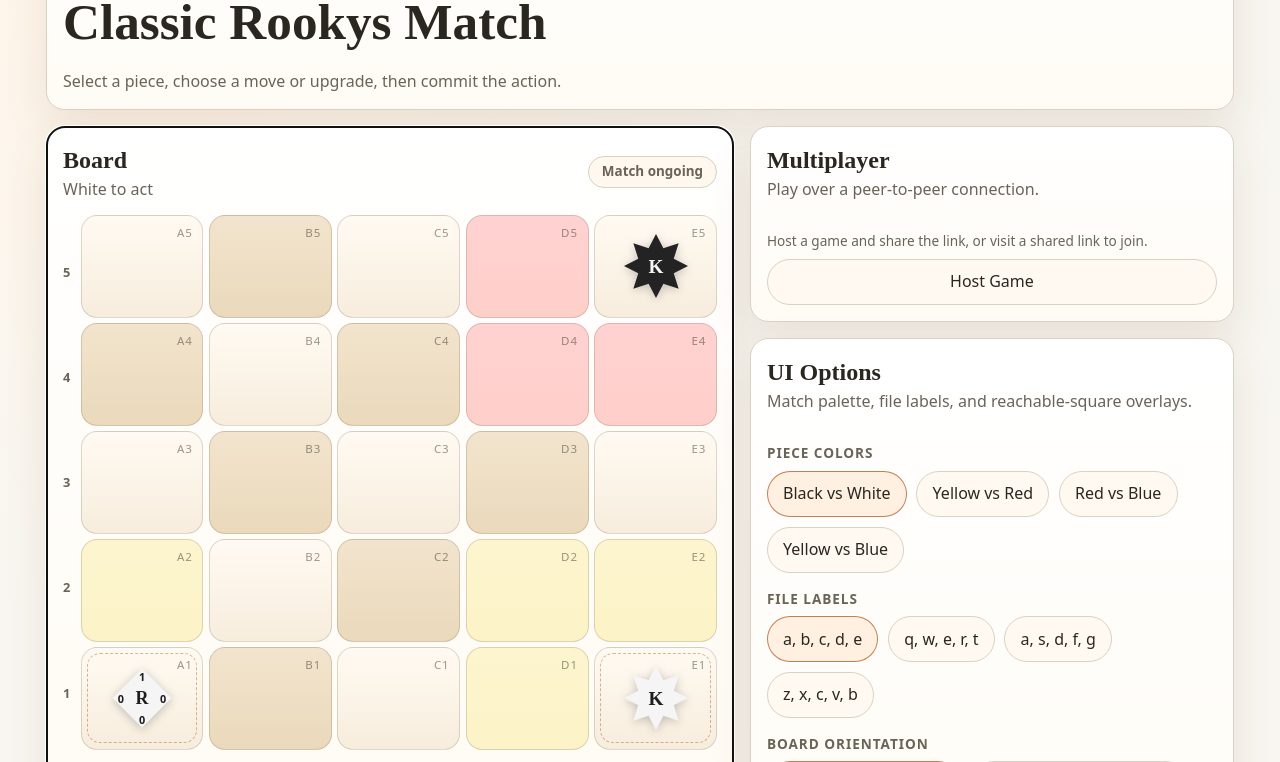
it: App › supports explicit move selection from the target list and restart reset
(page scrolled)
Click the cell named "Square a1, white rooky".
click(142, 698)  # box [81, 647, 204, 750]
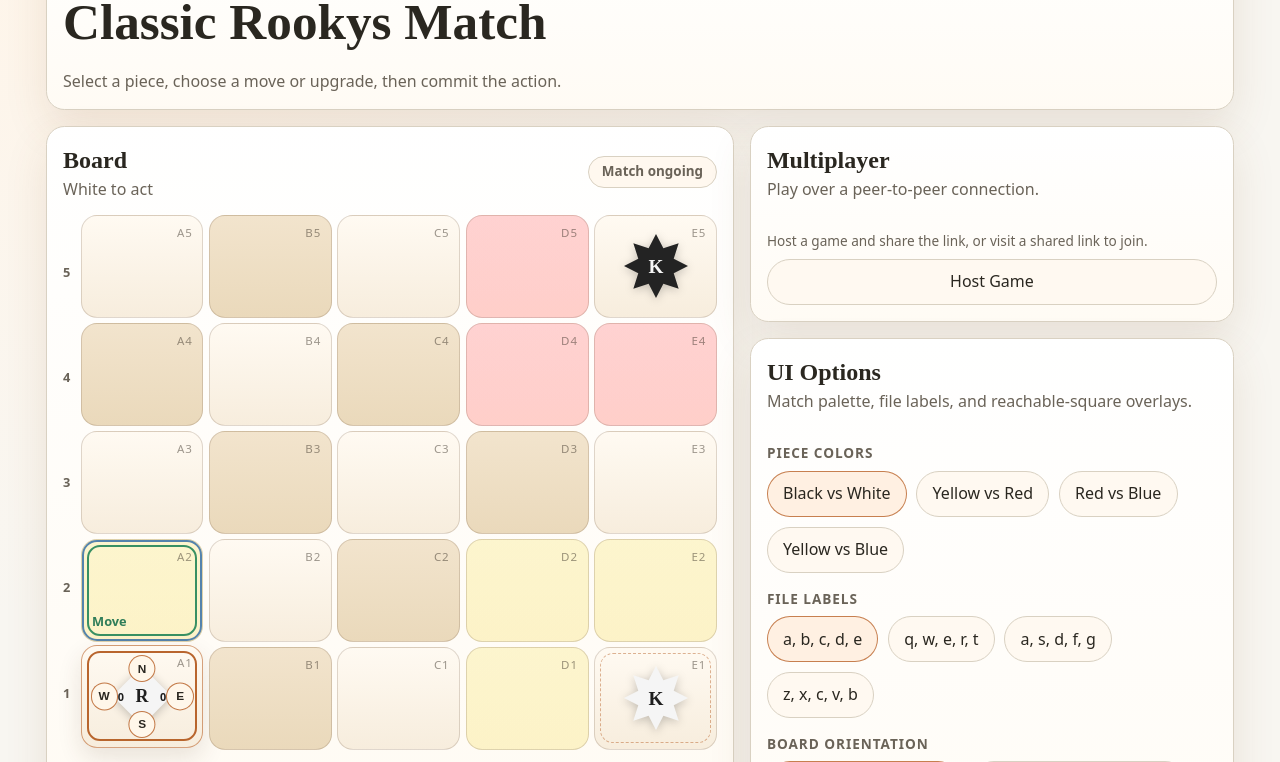
Click the cell named "Square a2, empty".
click(142, 590)  # box [81, 539, 204, 642]
(page scrolled)
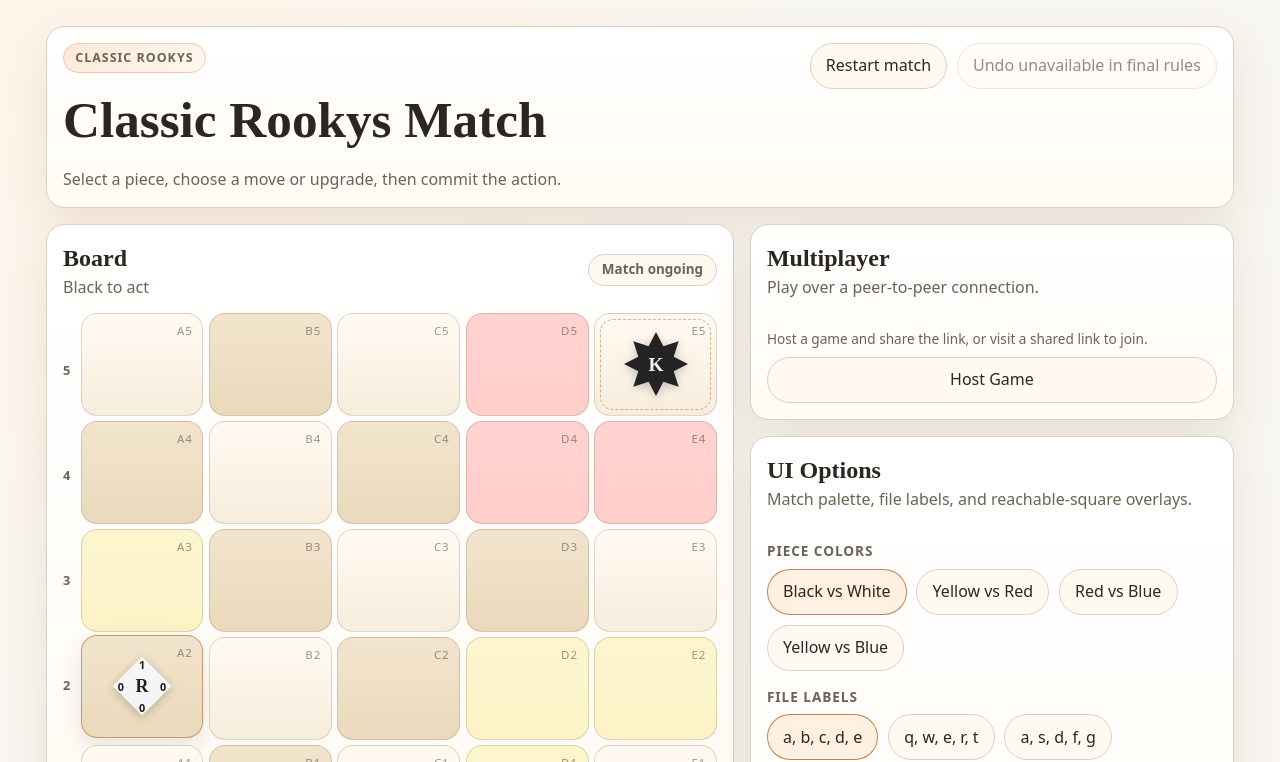
Check: the text "Black to act" is shown, box [63, 276, 149, 299]
Click the button "Restart match".
click(878, 66)  # box [810, 43, 947, 89]
(page scrolled)
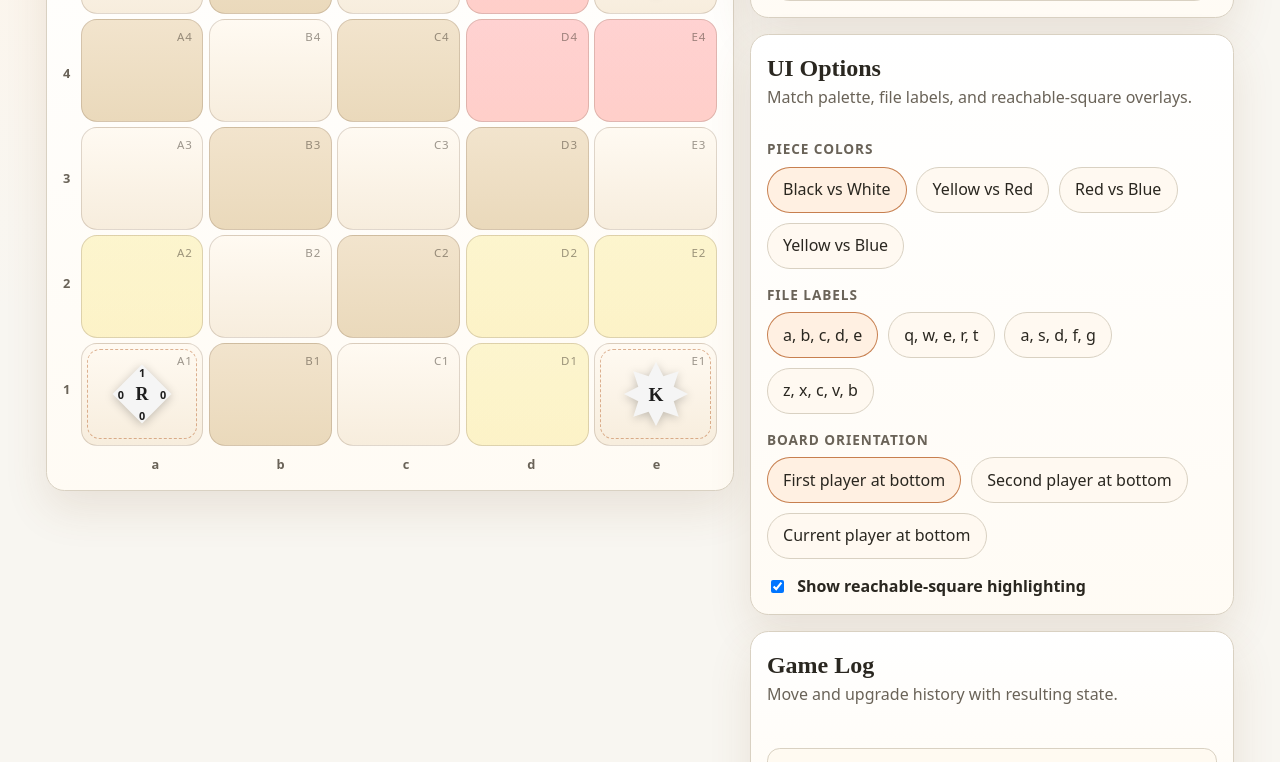
Check: the cell named "Square a1, white rooky" is shown, box [81, 343, 204, 446]
